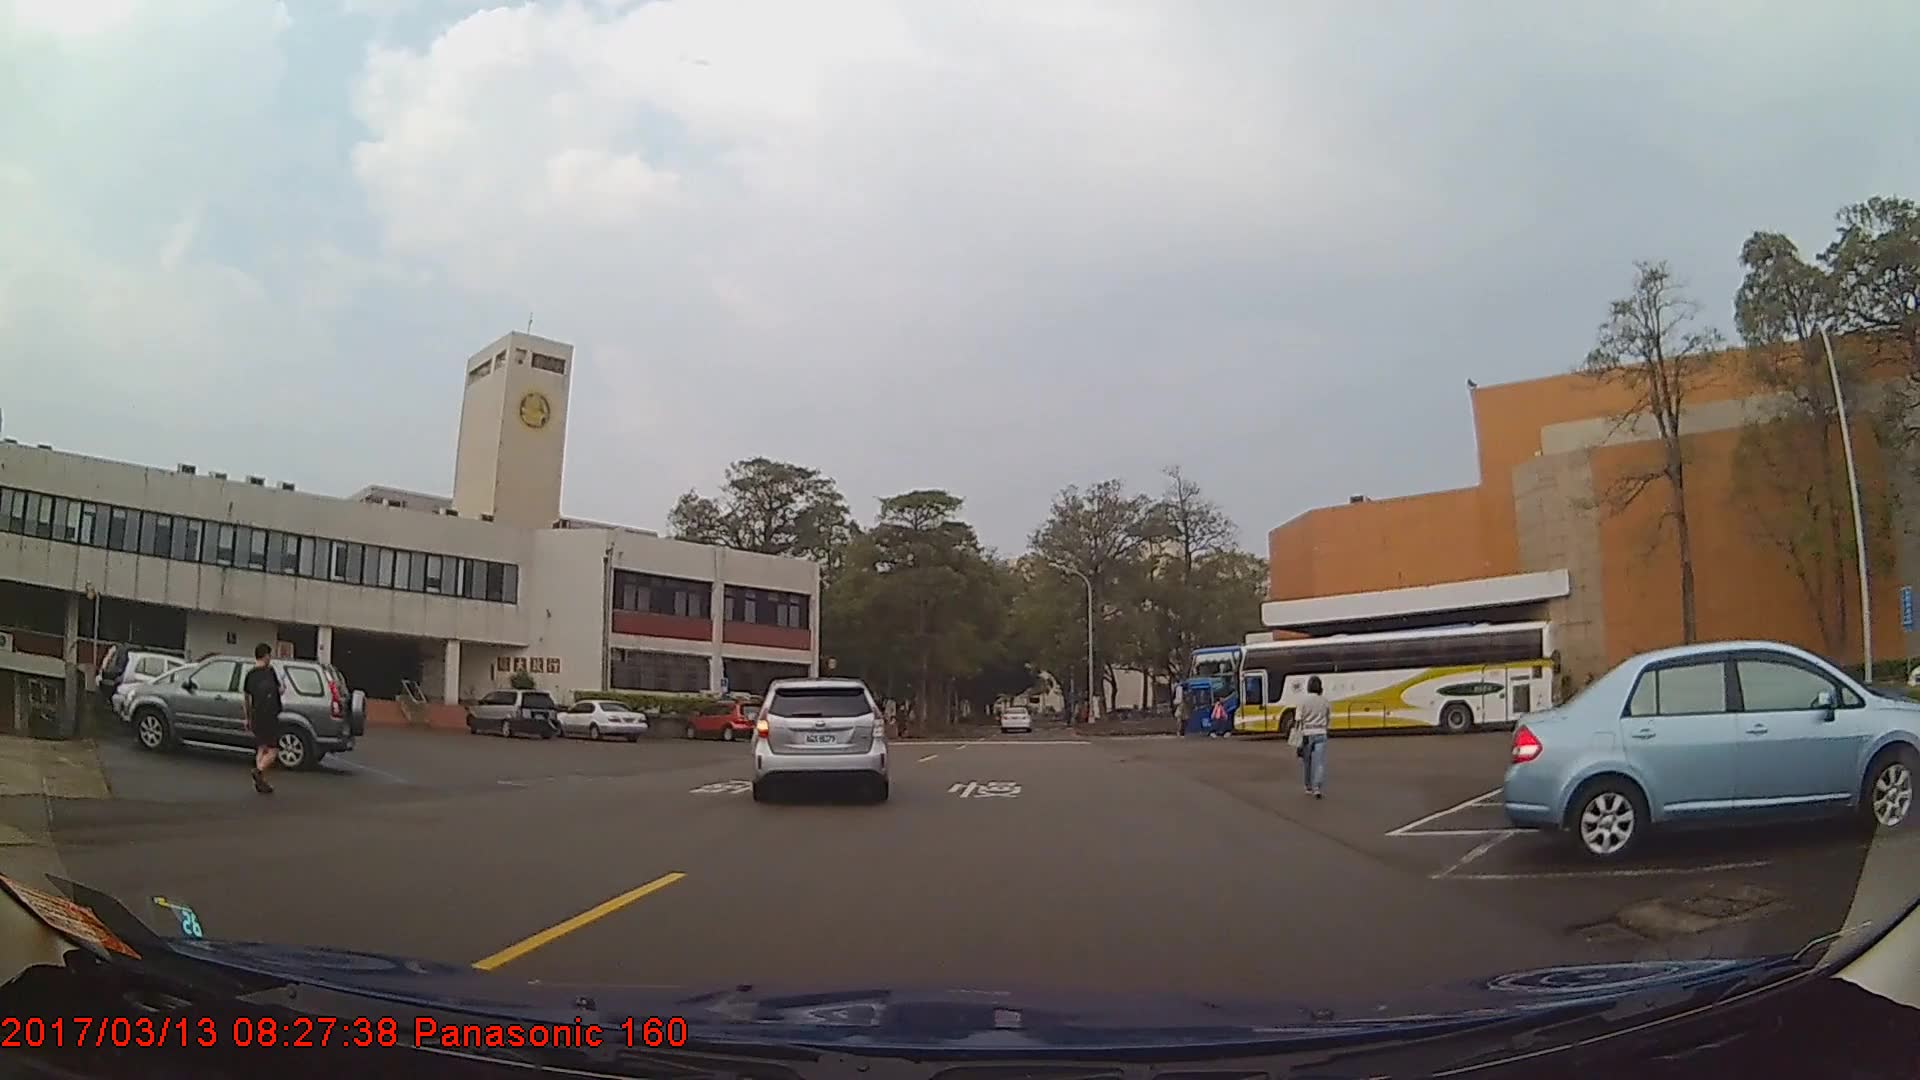pedestrian: (239, 644, 291, 798), (1290, 672, 1334, 794)
vehicle: (1506, 637, 1919, 868), (1233, 618, 1560, 742), (121, 655, 367, 769), (1182, 646, 1447, 737), (753, 675, 886, 801), (117, 648, 226, 715), (466, 688, 558, 740), (552, 695, 650, 740), (681, 698, 764, 739), (1000, 706, 1032, 733)
